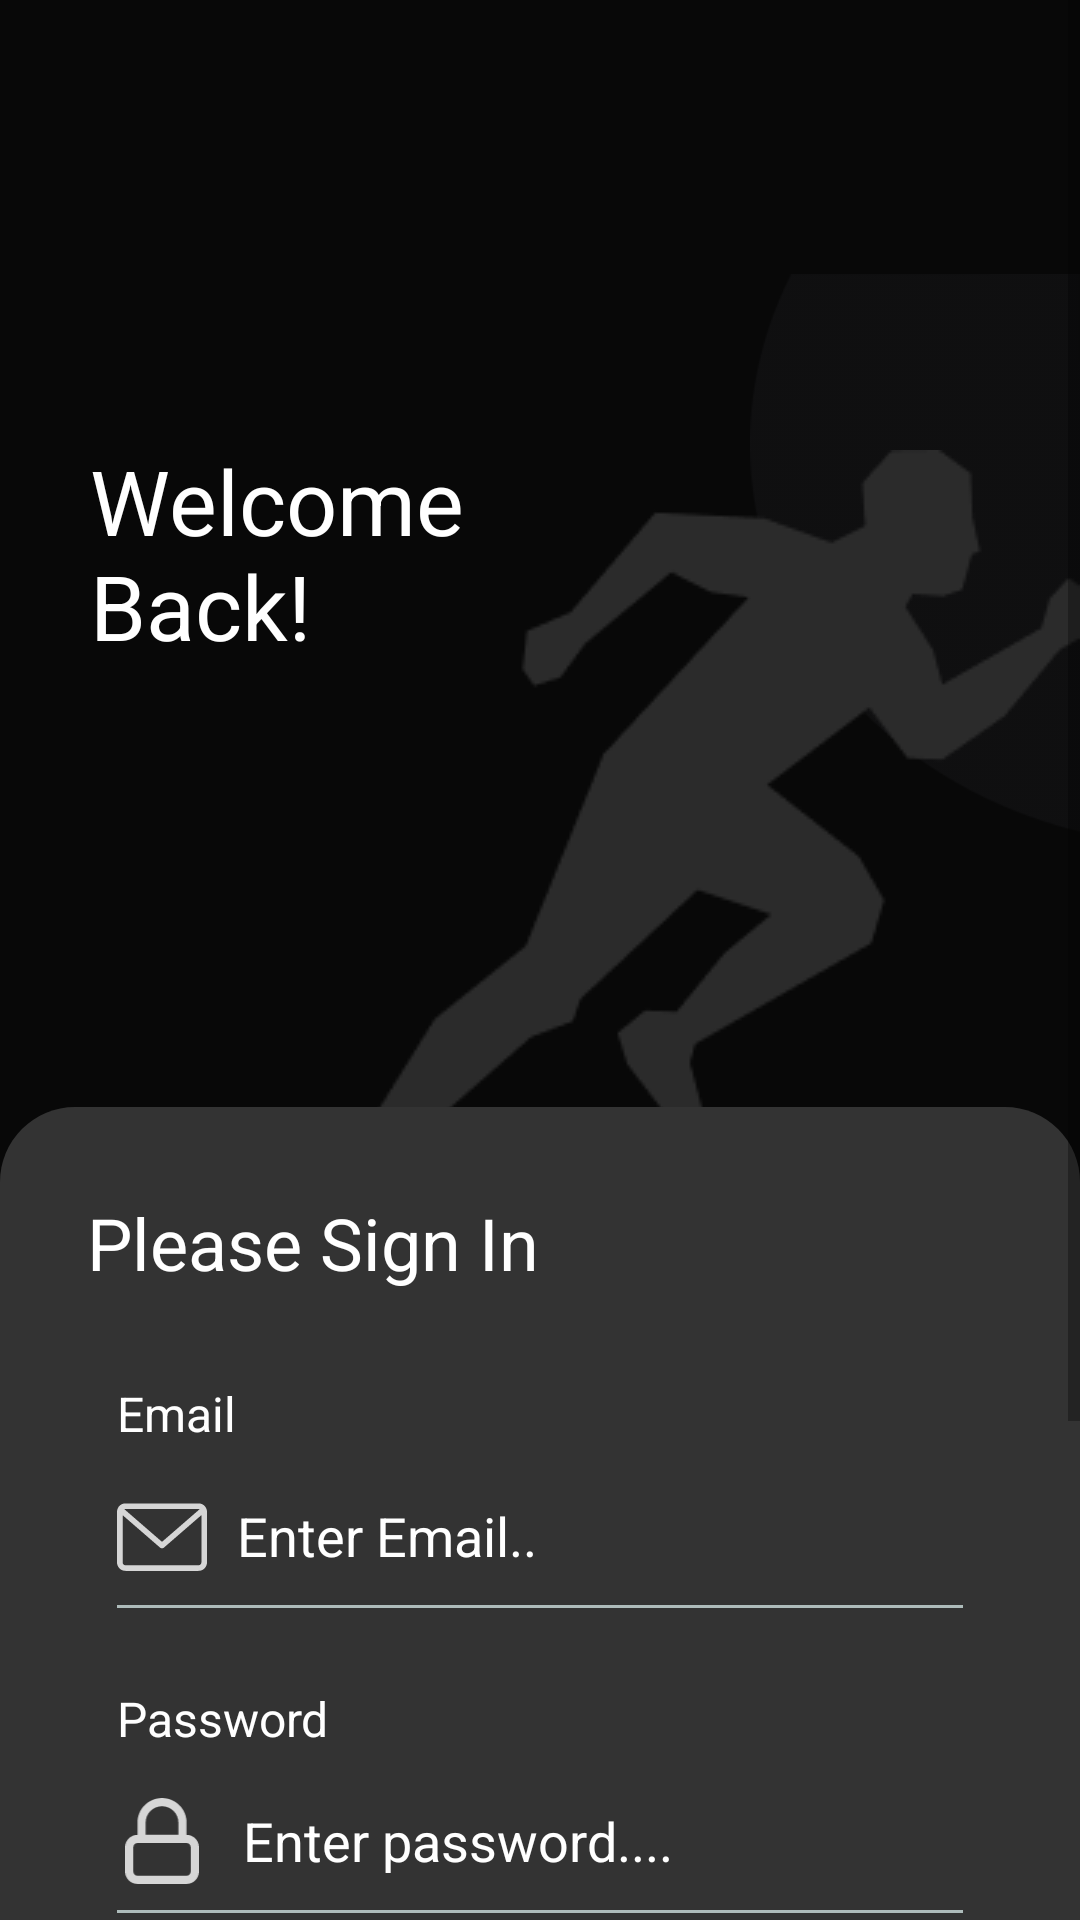

Icon bounding boxes for this 1080px×1920px phone screenshot, format (x1,y1,x2,y2):
lockicon: (125,1798,199,1884)
